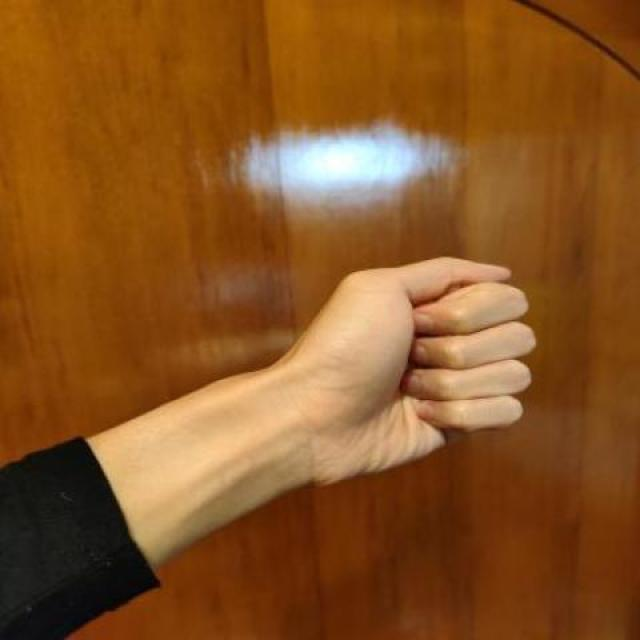Closed Hand: (261, 253, 539, 490)
